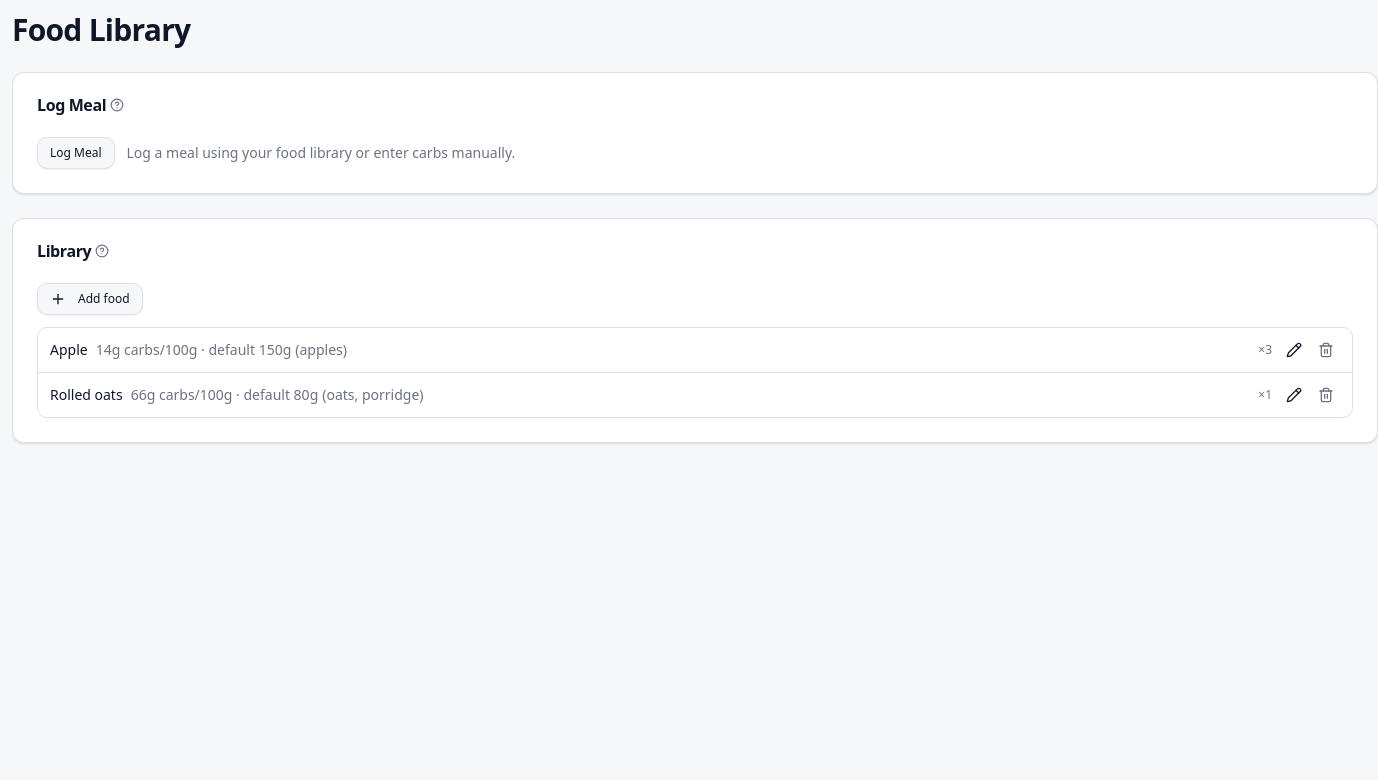
Food Library page — Library section › opens edit form on pencil click
What coordinates should you click on to do the following:
click the button named "edit apple"
I would click on:
 (1294, 350)
Its box is top-left (1280, 336), bottom-right (1308, 364).
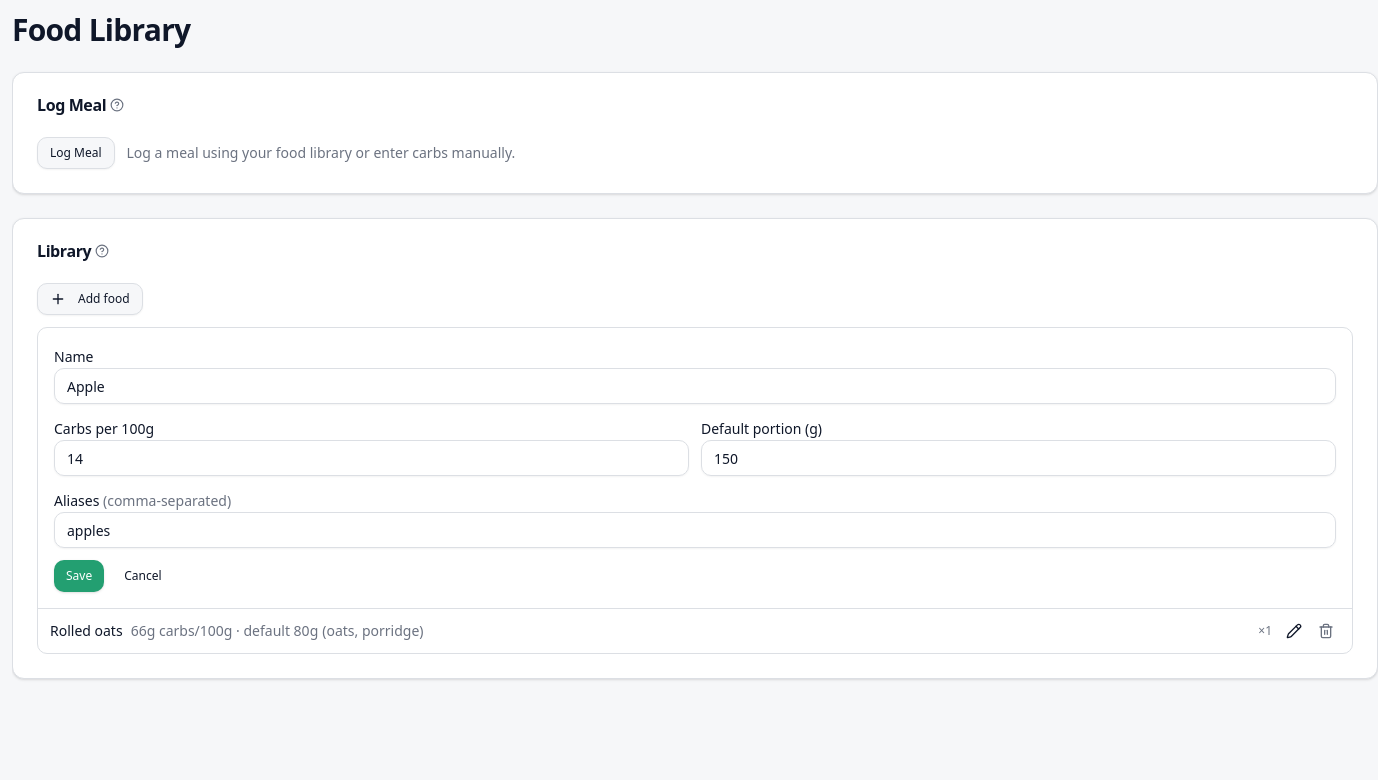
Expected: the field showing "Apple" is shown, top-left (54, 368), bottom-right (1336, 404)
